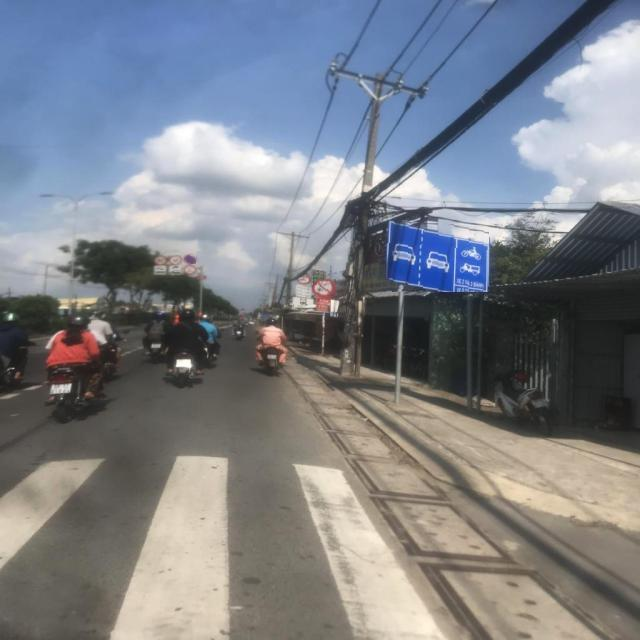107-cam-oto-khach-va-oto-tai: (297, 274, 311, 284)
